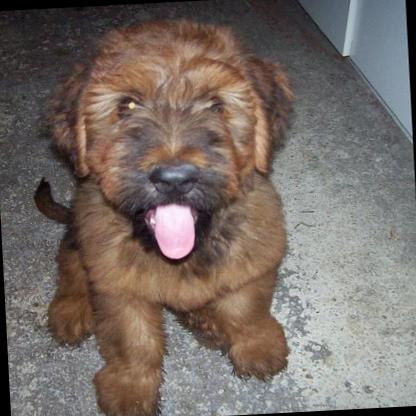briard: (21, 8, 312, 416)
